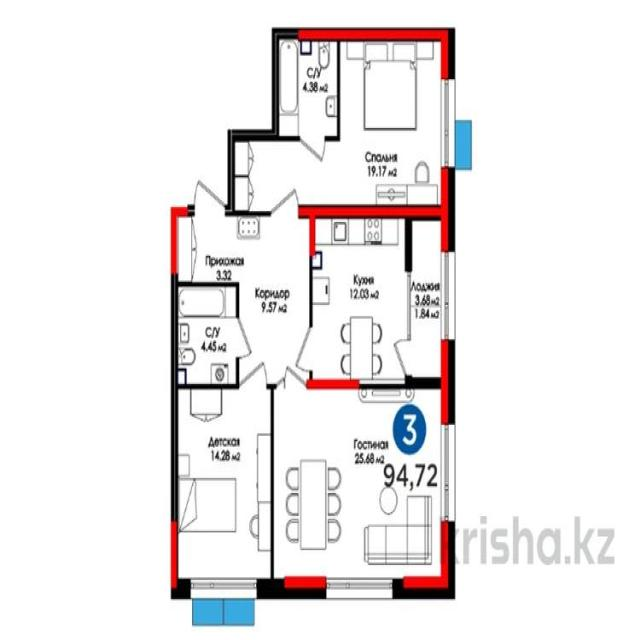balcony: (412, 216, 447, 380)
bathroom: (276, 35, 336, 138), (176, 285, 237, 384)
hallway: (240, 219, 310, 381), (180, 217, 238, 279)
kitchen: (312, 216, 408, 380)
living_room: (274, 388, 443, 581), (176, 386, 270, 589), (341, 39, 444, 205)
